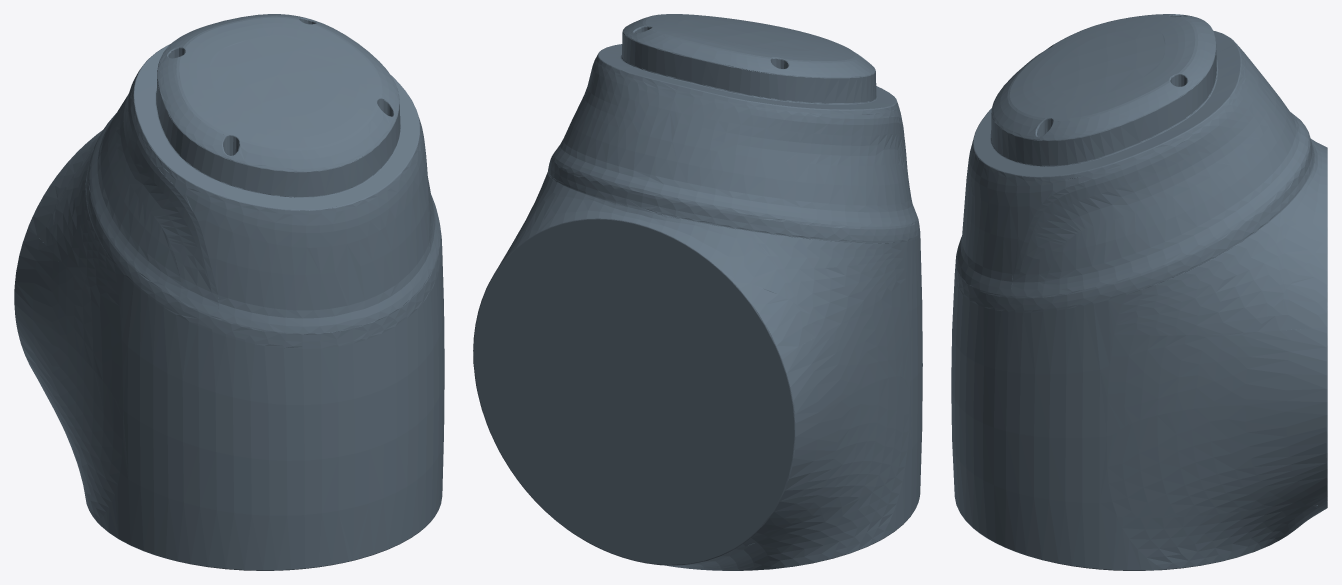
3 views of the same model, side by side, from view 1: azimuth 30°, elevation 25°; view 2: azimuth 150°, elevation 25°; view 3: azimuth 270°, elevation 25° (orthographic). The views are drawn at different scales.
Visible parts, largest first — view 1: A0912_1_2; view 2: A0912_1_2; view 3: A0912_1_2.
Part boxes in pixels (x1,y1,x2,y2): A0912_1_2: (14, 14, 444, 570); A0912_1_2: (473, 14, 922, 570); A0912_1_2: (951, 14, 1327, 570).
Bounding box in the file's own units: 161 × 163 × 217.
